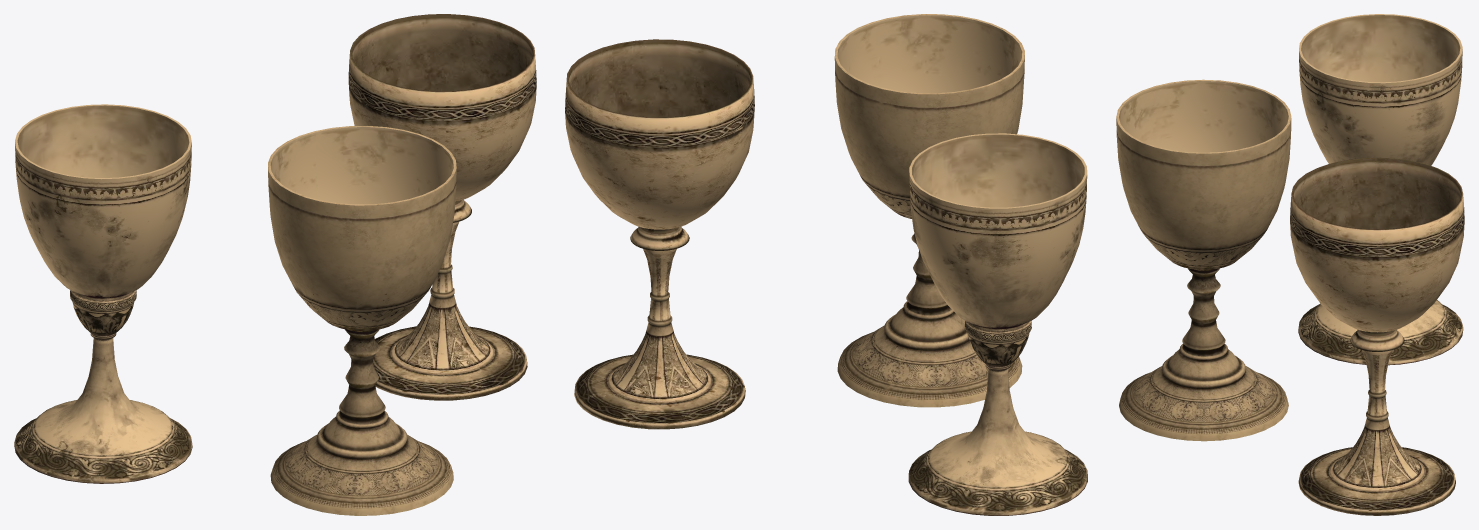
Rendered from brass_goblets.glb.
3 views of the same model, side by side, from view 1: azimuth 30°, elevation 25°; view 2: azimuth 150°, elevation 25°; view 3: azimuth 270°, elevation 25° (orthographic). The views are drawn at different scales.
Visible parts, largest first — view 1: brass_goblet_01, brass_goblet_02, brass_goblet_03; view 2: brass_goblet_02, brass_goblet_03, brass_goblet_01; view 3: brass_goblet_01, brass_goblet_03, brass_goblet_02.
Part boxes in pixels (x1,y1,x2,y2): brass_goblet_01: [268, 126, 456, 515]; brass_goblet_02: [14, 104, 192, 483]; brass_goblet_03: [348, 14, 536, 400]; brass_goblet_02: [908, 133, 1087, 515]; brass_goblet_03: [565, 39, 754, 429]; brass_goblet_01: [834, 14, 1024, 407]; brass_goblet_01: [1116, 79, 1291, 441]; brass_goblet_03: [1290, 157, 1464, 515]; brass_goblet_02: [1298, 14, 1463, 365].
Size of the model in its own units: 0.4534 by 0.2734 by 0.2976.
Materials: 3 (3 with a texture image).
